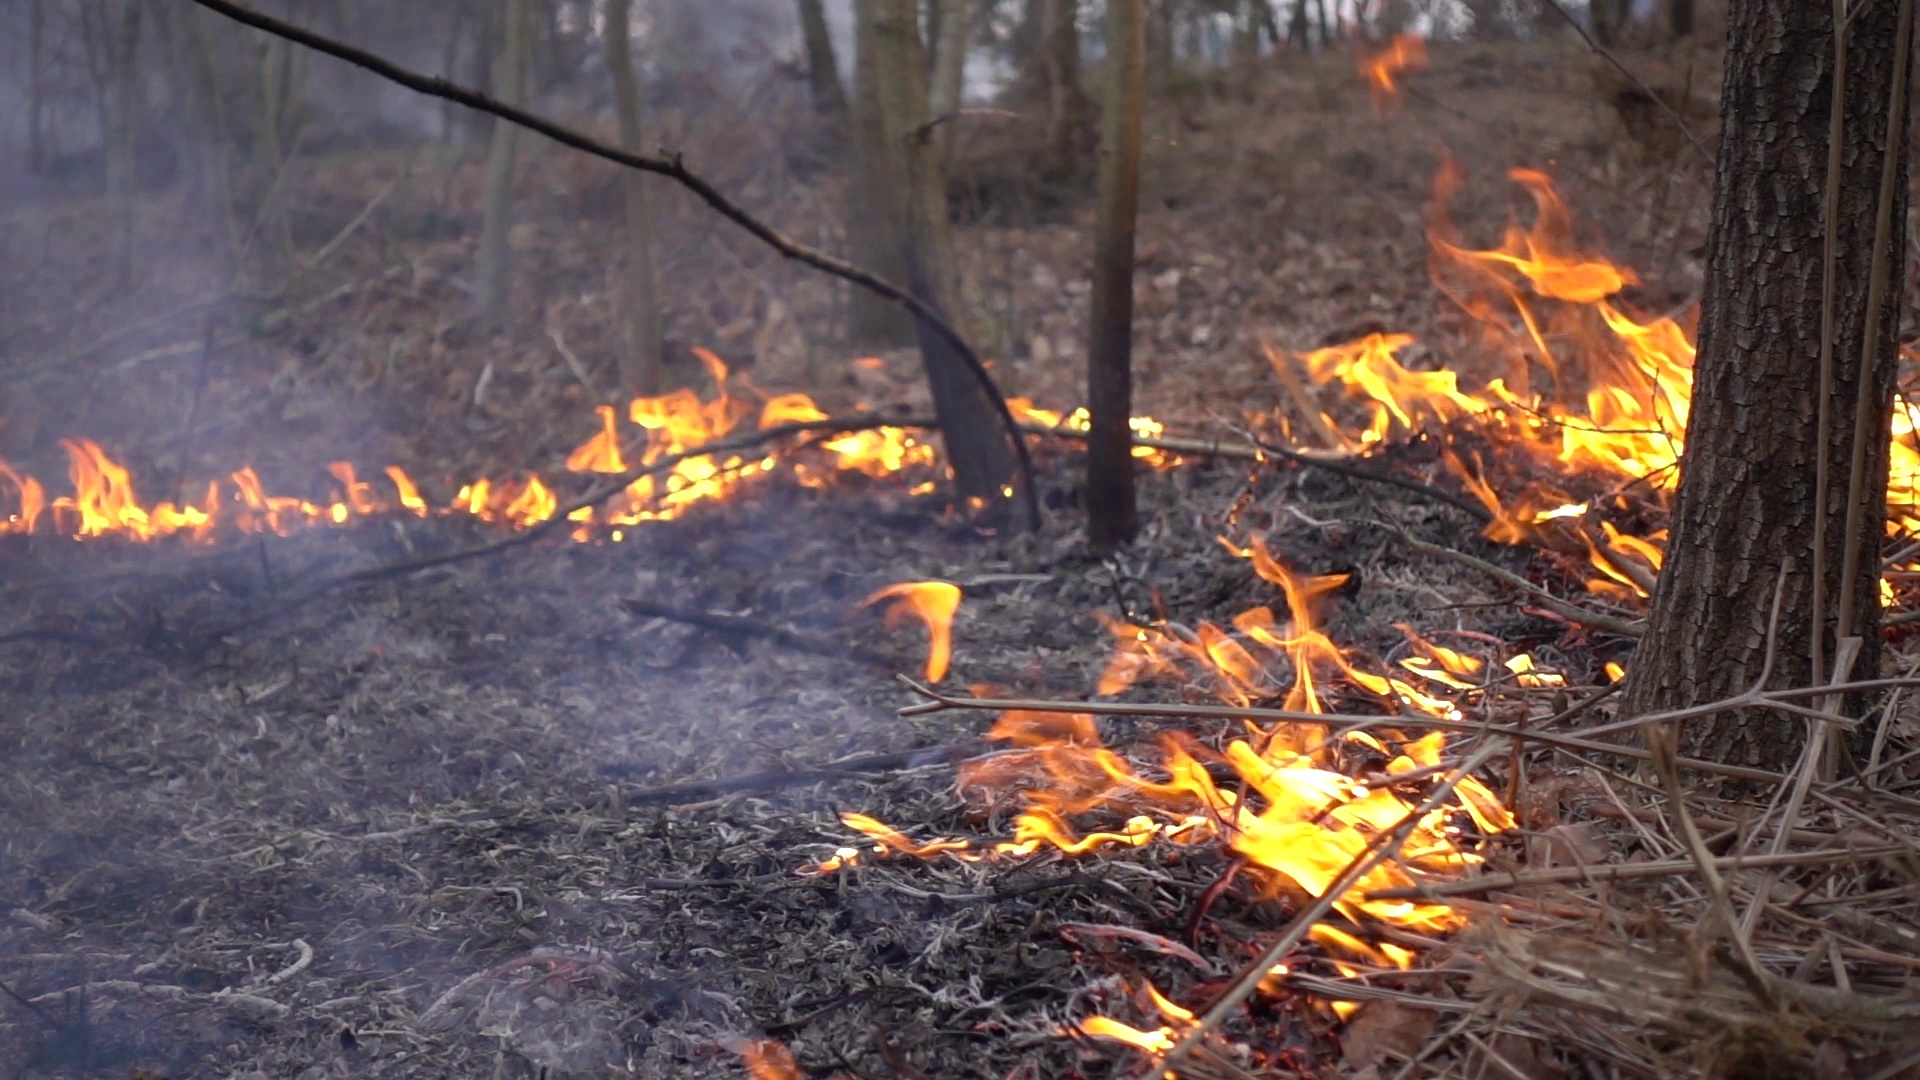fire: (996, 599, 1480, 973), (1290, 181, 1692, 574), (1, 442, 364, 542), (592, 393, 731, 516), (452, 464, 553, 535), (831, 421, 906, 473), (1890, 406, 1920, 531), (392, 473, 425, 513)
